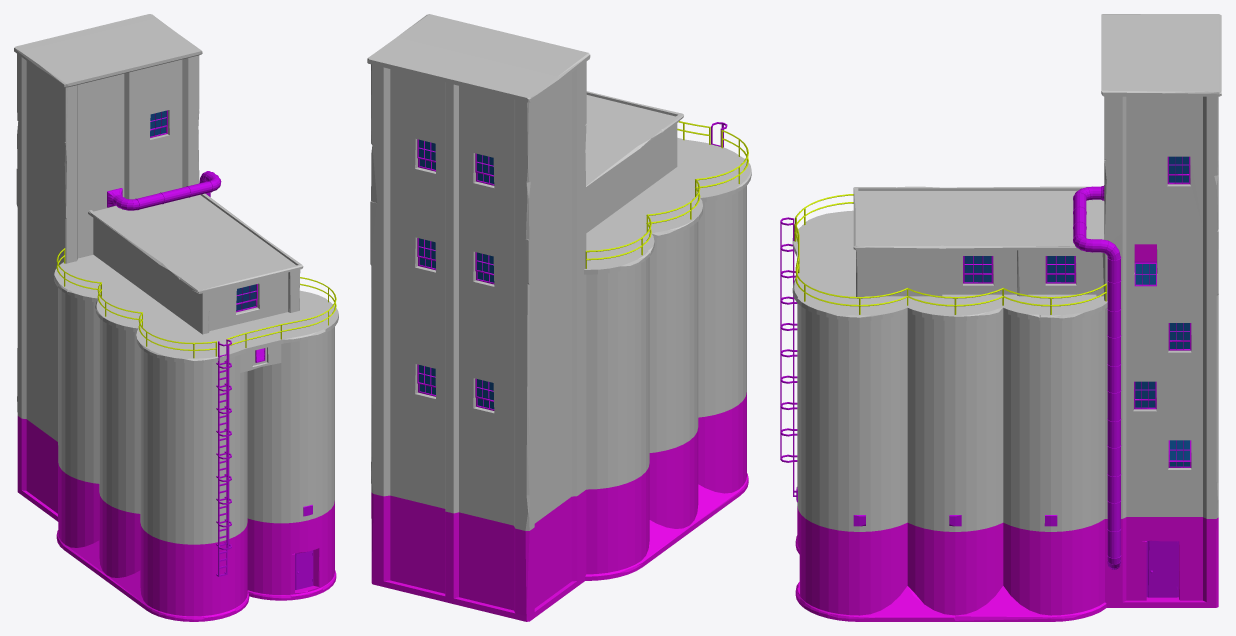
Rendered from Industrial01.fbx.
3 renders of one model, left to right at view 1: azimuth 30°, elevation 25°; view 2: azimuth 150°, elevation 25°; view 3: azimuth 270°, elevation 25°, orthographic. The views are drawn at different scales.
Parts seen in each view (by area): view 1: SM_Backhill_Industrial_02.mo; view 2: SM_Backhill_Industrial_02.mo; view 3: SM_Backhill_Industrial_02.mo.
Boxes of the visible parts, <box> form: SM_Backhill_Industrial_02.mo: <box>14,14,338,621</box>; SM_Backhill_Industrial_02.mo: <box>367,14,751,621</box>; SM_Backhill_Industrial_02.mo: <box>780,14,1221,621</box>.
Size of the model in its own units: 1101 by 2500 by 1931.
